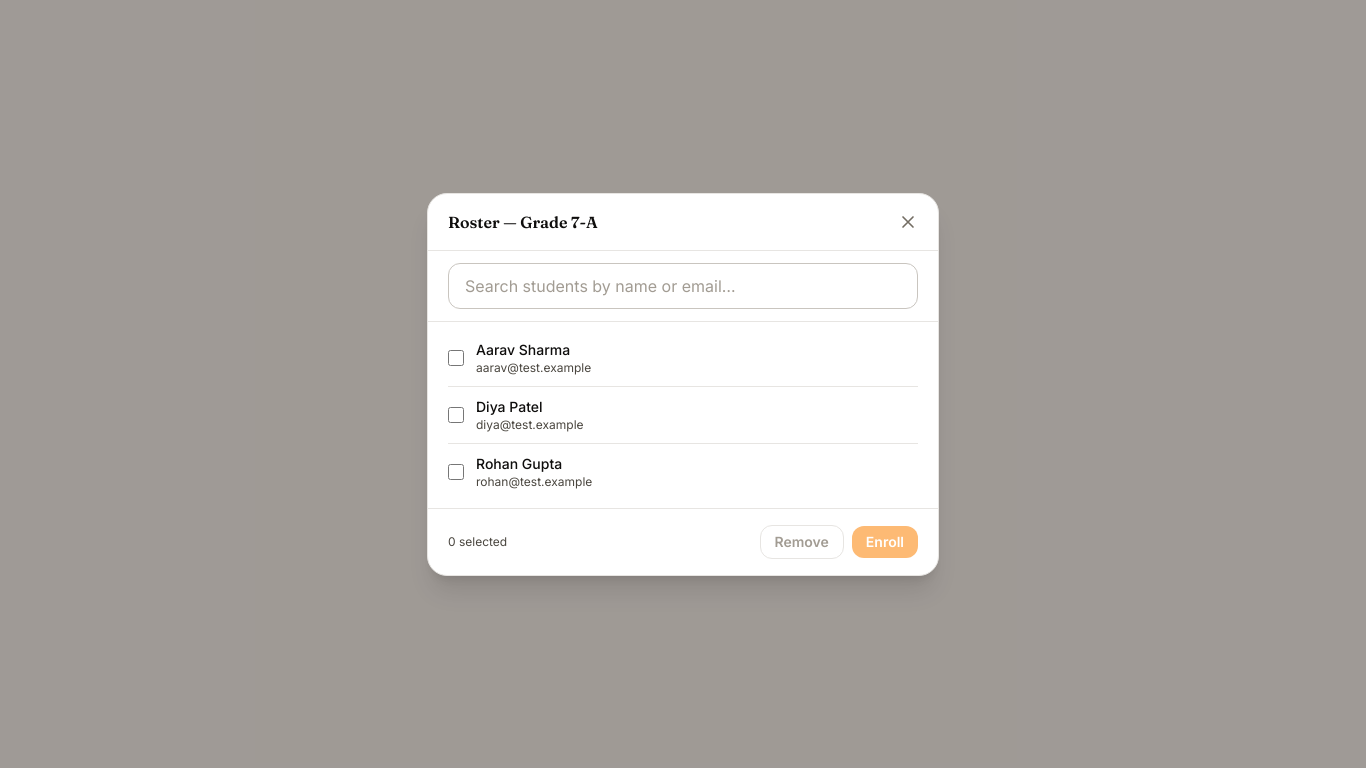
EnrollStudentsModal › filters students by search query
The image size is (1366, 768).
Type "diya" into the field with placeholder "Search students by name or email…" at {"x": 683, "y": 286}, box [448,262,918,308]
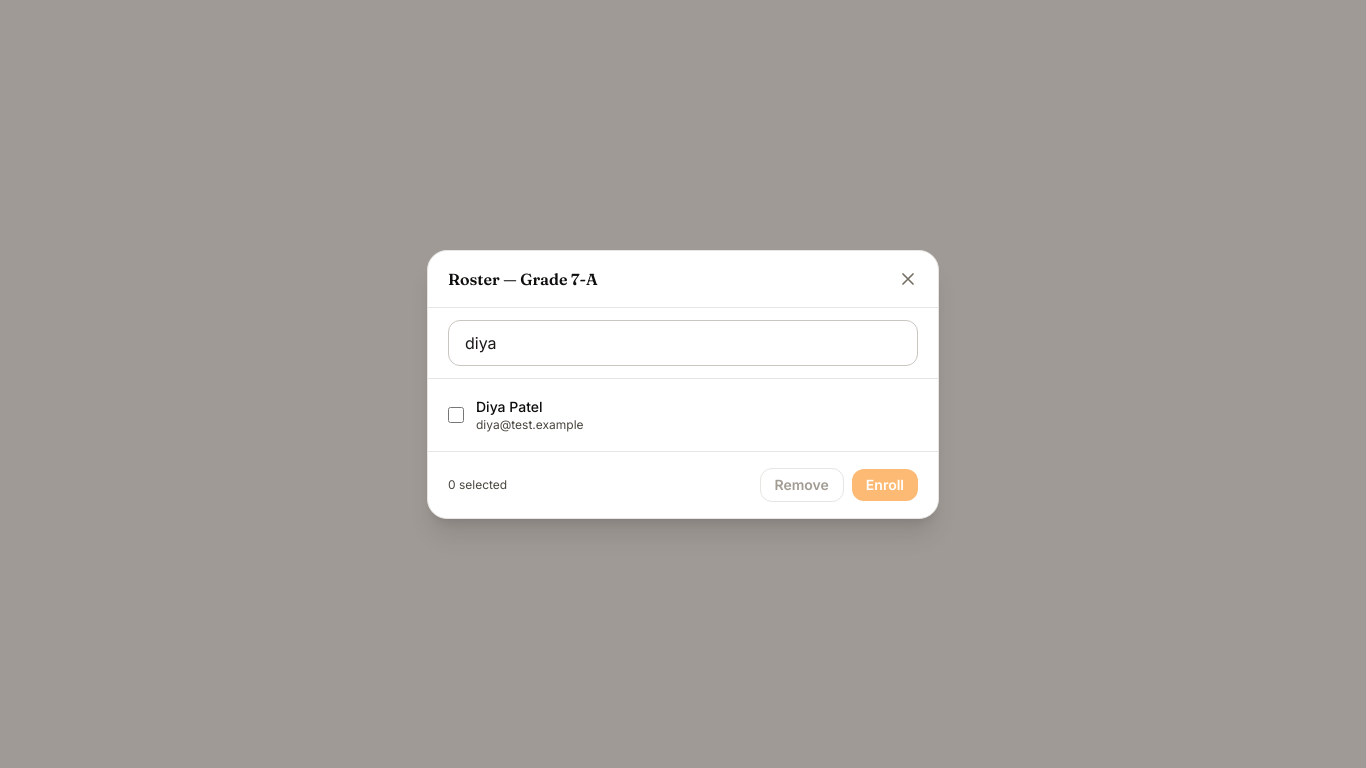
Expected: the text "Diya Patel" is shown, [476,398,542,414]
Now the text "Aarav Sharma" is gone
